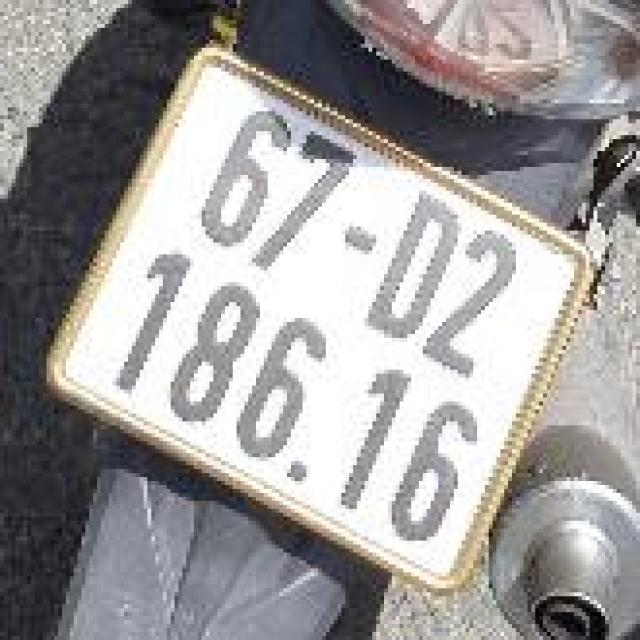1: (90, 237, 203, 404), (320, 355, 422, 522)
2: (416, 216, 530, 392)
6: (181, 93, 308, 268), (378, 385, 489, 557), (226, 308, 340, 475)
7: (238, 122, 367, 293)
8: (153, 268, 271, 441)
D: (356, 181, 467, 356)
